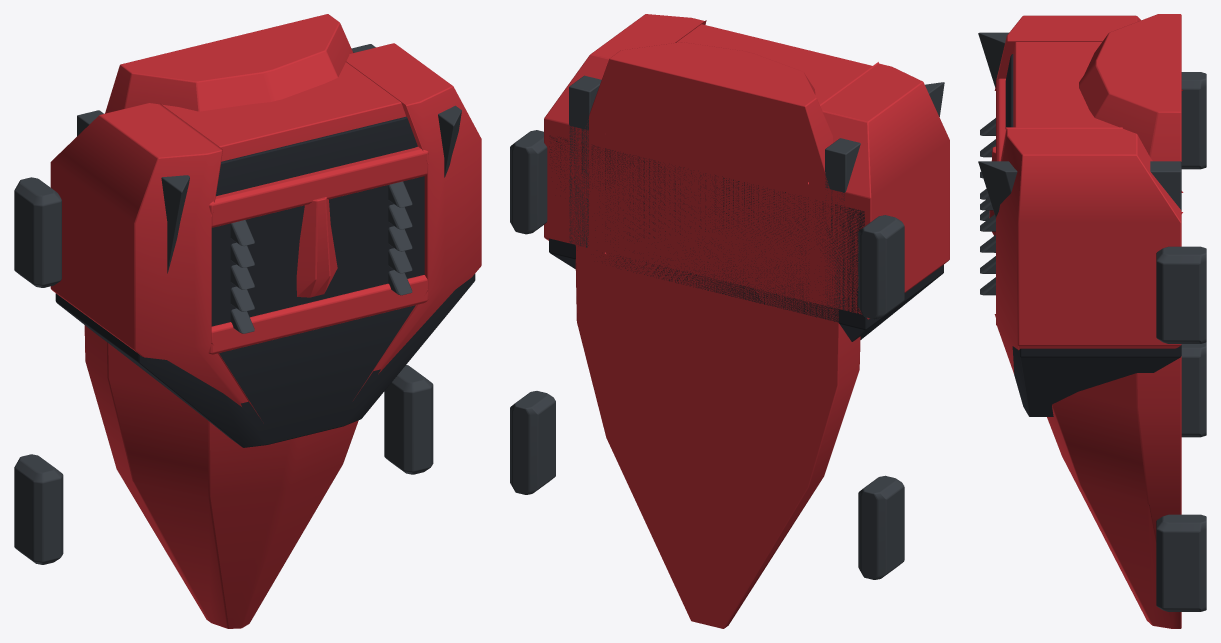
File: ThighFront_Set04_Ripjaw.fbx
3 renders of one model, left to right at view 1: azimuth 30°, elevation 25°; view 2: azimuth 150°, elevation 25°; view 3: azimuth 270°, elevation 25°, orthographic. The views are drawn at different scales.
Parts seen in each view (by area): view 1: ThighFront_Set04_Ripjaw; view 2: ThighFront_Set04_Ripjaw; view 3: ThighFront_Set04_Ripjaw.
Boxes of the visible parts, box(x1,y1,x2,y2) form: ThighFront_Set04_Ripjaw: box(14, 14, 481, 628); ThighFront_Set04_Ripjaw: box(510, 14, 949, 628); ThighFront_Set04_Ripjaw: box(978, 14, 1206, 628).
Size of the model in its own units: 0.53 by 0.73 by 0.271.
